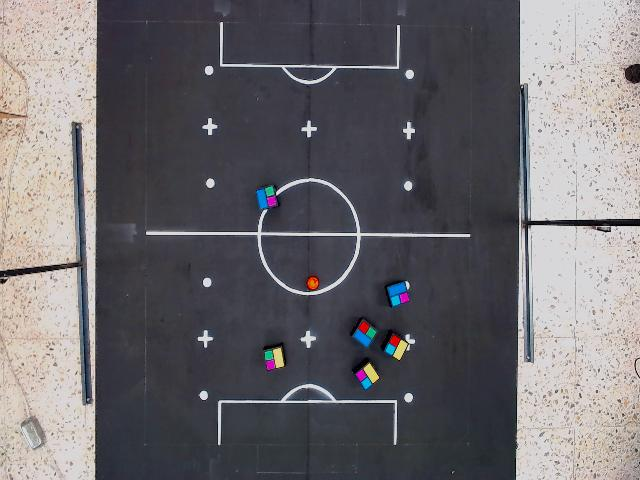robot: (353, 360, 381, 393), (351, 318, 379, 351), (382, 332, 410, 363), (385, 280, 412, 310), (262, 345, 287, 373), (255, 183, 280, 211)
